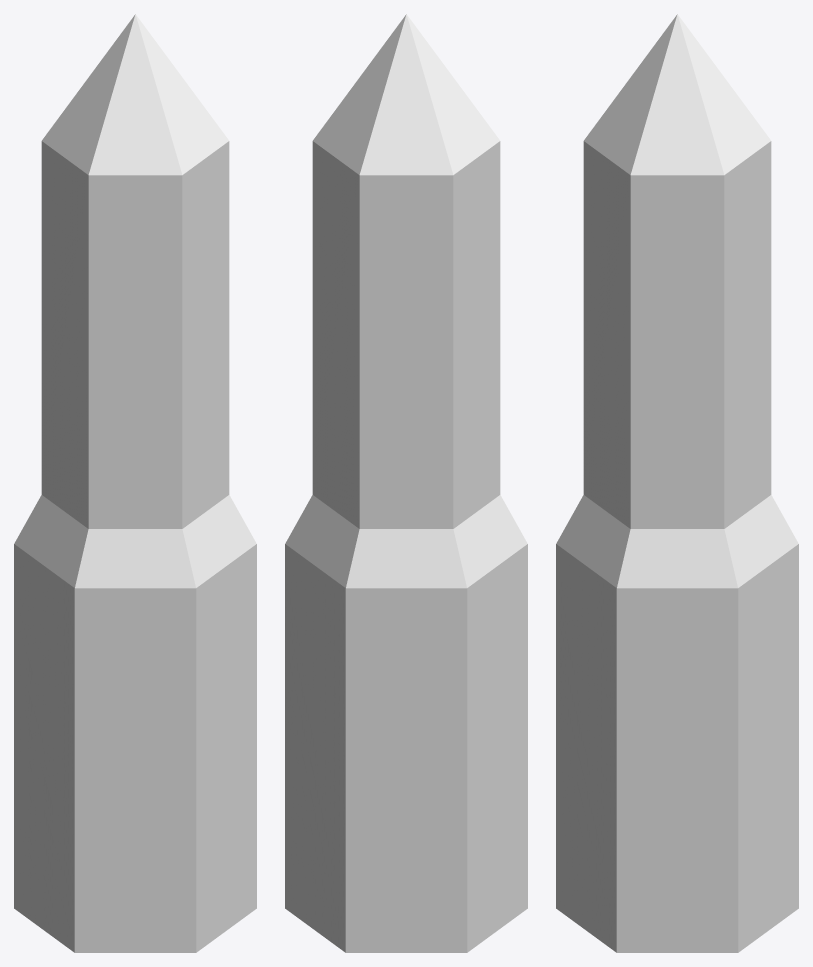
The model's file is Building_3.fbx.
3 views of the same model, side by side, from view 1: azimuth 30°, elevation 25°; view 2: azimuth 150°, elevation 25°; view 3: azimuth 270°, elevation 25° (orthographic).
Parts seen in each view (by area): view 1: Cylinder.002; view 2: Cylinder.002; view 3: Cylinder.002.
Part boxes in pixels (<box>): Cylinder.002: <box>14,14,256,952</box>; Cylinder.002: <box>285,14,527,952</box>; Cylinder.002: <box>556,14,798,952</box>.
Bounding box in the file's own units: 199 × 937 × 230.
